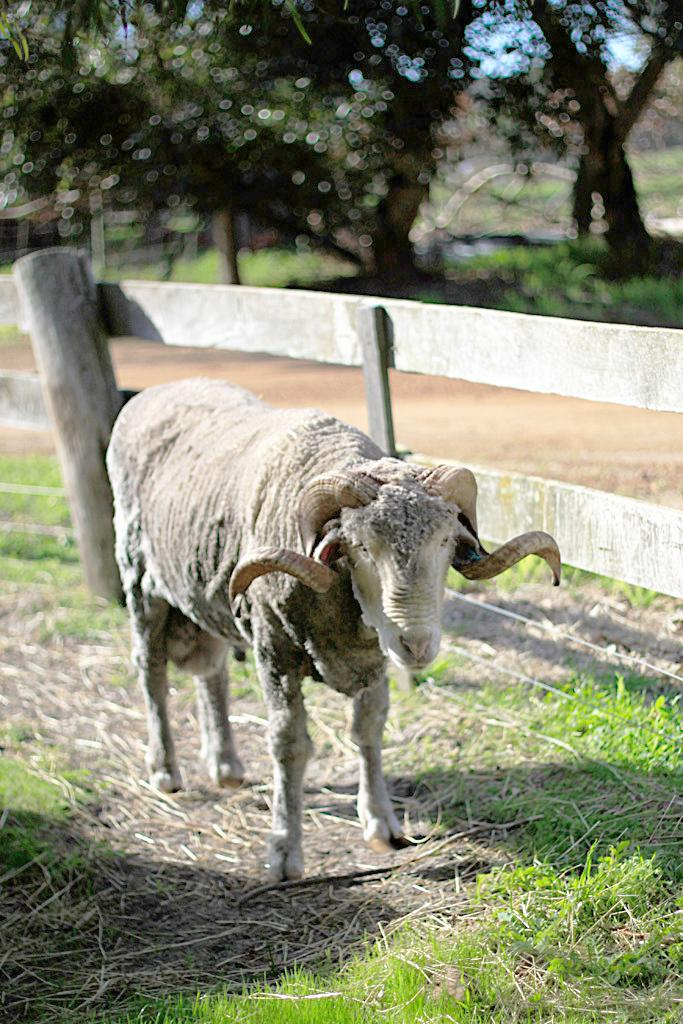Sheep: (101, 380, 559, 882)
